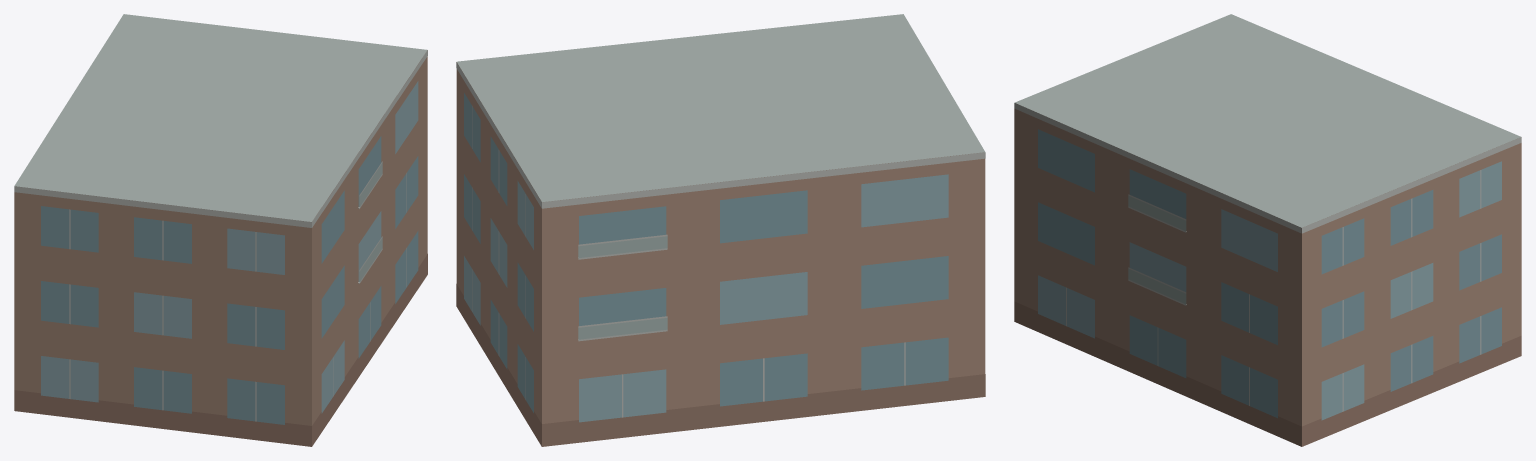
File: survey-upis-32601729.glb
3 views of the same model, side by side, from view 1: azimuth 30°, elevation 25°; view 2: azimuth 150°, elevation 25°; view 3: azimuth 270°, elevation 25° (orthographic). The views are drawn at different scales.
Parts seen in each view (by area): view 1: survey-upis-32601729.tmp; view 2: survey-upis-32601729.tmp; view 3: survey-upis-32601729.tmp.
Part boxes in pixels (left/top/right/bottom): survey-upis-32601729.tmp: left=14, top=14, right=427, bottom=446; survey-upis-32601729.tmp: left=456, top=14, right=985, bottom=446; survey-upis-32601729.tmp: left=1014, top=14, right=1521, bottom=446.
Size of the model in its own units: 19.16 by 9.15 by 19.21.
